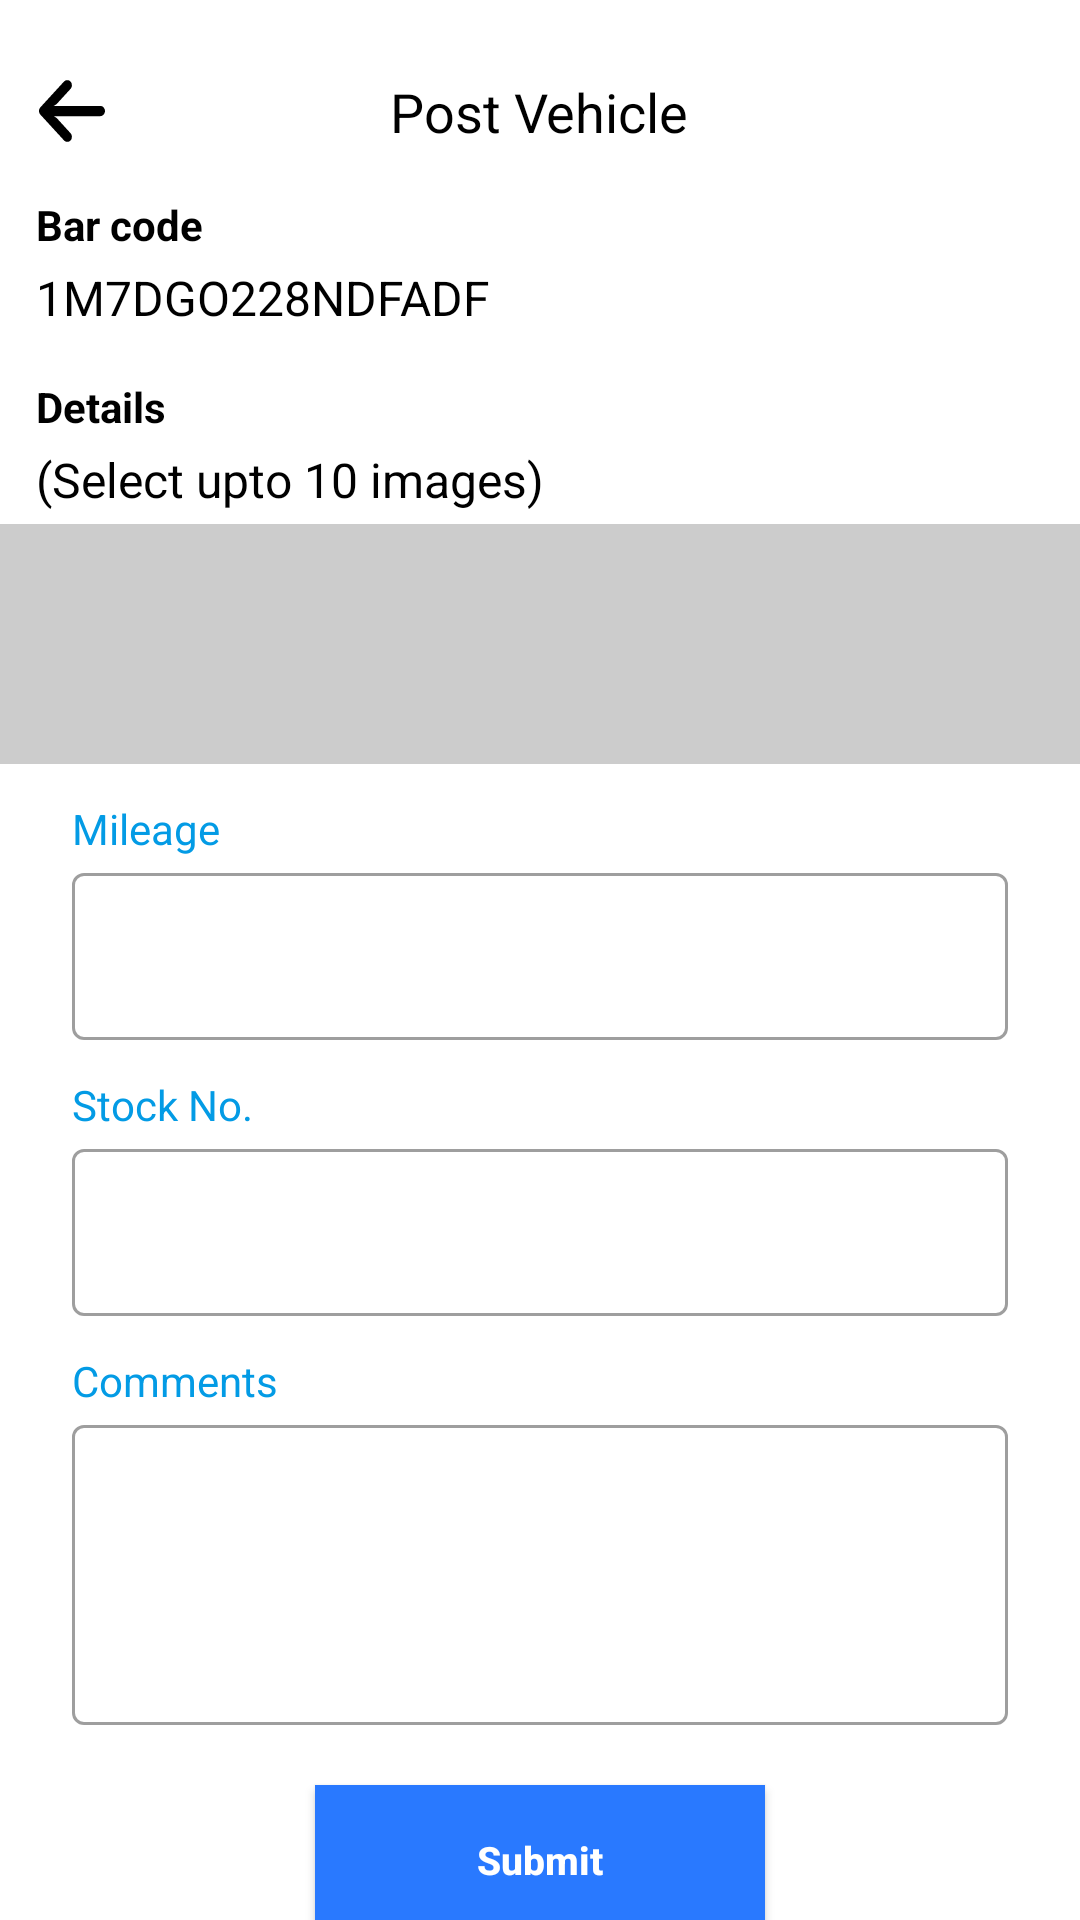

Icons on this 1080 × 1920 Android screen, each with the point to tap as (x=x, y=y):
back arrow: (x=72, y=111)
